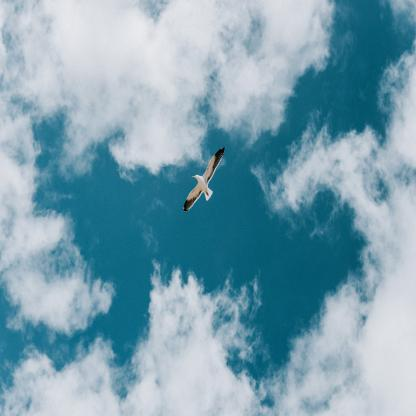bird: (184, 146, 226, 212)
